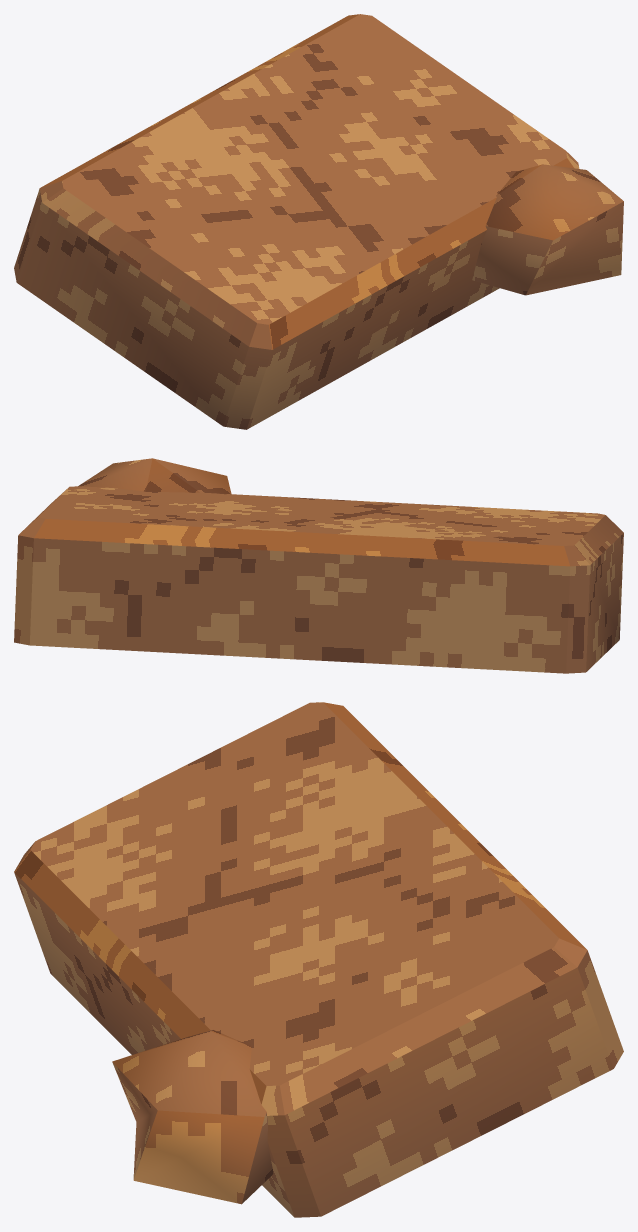
Rendered from wild.rock__slab.glb.
3 views of the same model, one above another, from view 1: azimuth 30°, elevation 25°; view 2: azimuth 150°, elevation 25°; view 3: azimuth 270°, elevation 25° (orthographic). The views are drawn at different scales.
Parts seen in each view (by area): view 1: kit_rock; view 2: kit_rock; view 3: kit_rock.
Boxes of the visible parts, x1,y1,x2,y2 form: kit_rock: (14,14,623,429); kit_rock: (14,458,623,673); kit_rock: (14,702,623,1217).
Size of the model in its own units: 2.98 by 0.9594 by 2.33.
Materials: 1 (1 with a texture image).
